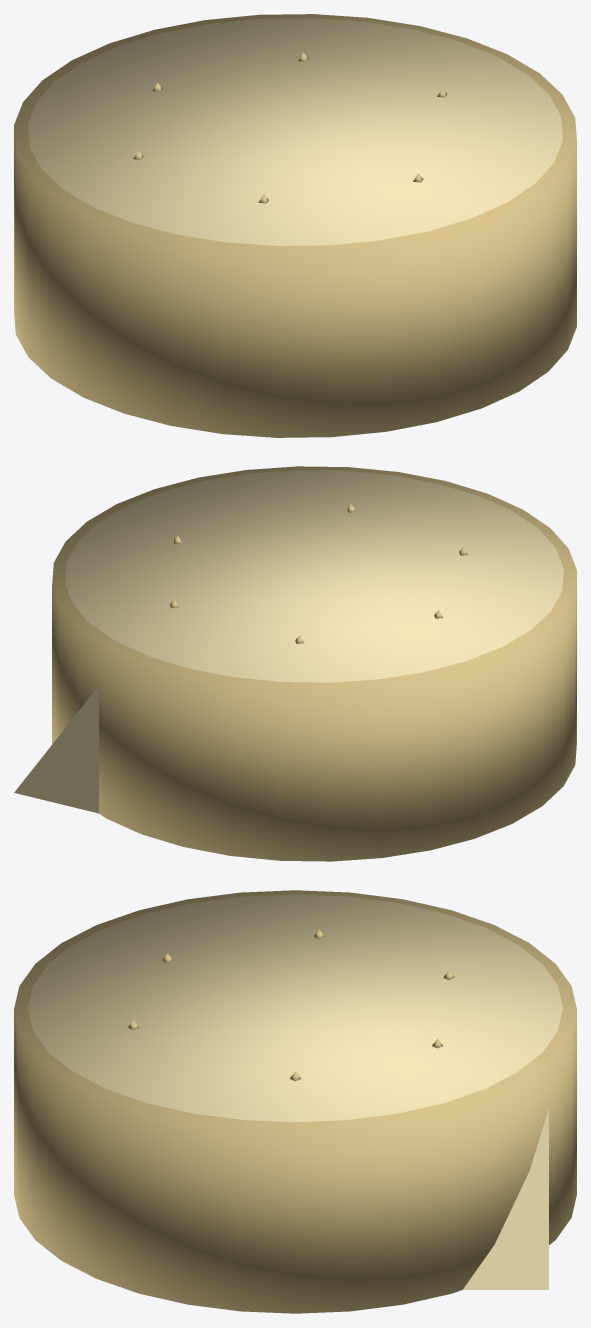
The model's file is world_cheese_parmesan.glb.
The picture shows the model from 3 angles, top to bottom: view 1: azimuth 30°, elevation 25°; view 2: azimuth 150°, elevation 25°; view 3: azimuth 270°, elevation 25°; orthographic projection. The views are drawn at different scales.
Visible parts, largest first — view 1: world_cheese_parmesan; view 2: world_cheese_parmesan; view 3: world_cheese_parmesan.
Part boxes in pixels (x1,y1,x2,y2): world_cheese_parmesan: (14,14,576,437); world_cheese_parmesan: (14,466,576,861); world_cheese_parmesan: (14,890,576,1313).
Size of the model in its own units: 1.1 by 0.42 by 1.1.
